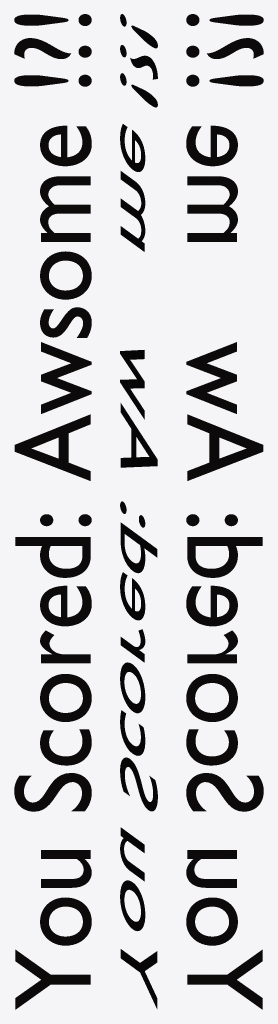
The model's file is point5.dae.
The picture shows the model from 3 angles, left to right: view 1: azimuth 90°, elevation 25°; view 2: azimuth 210°, elevation 25°; view 3: azimuth 270°, elevation 25°; orthographic projection. The views are drawn at different scales.
Parts seen in each view (by area): view 1: Text; view 2: Text; view 3: Text.
Part boxes in pixels (x1=…): Text: x1=14, y1=14, x2=91, y2=1009; Text: x1=120, y1=14, x2=157, y2=1008; Text: x1=186, y1=14, x2=263, y2=1009.
Bounding box in the file's own units: 4.33e-07 × 0.7 × 9.92.
Materials: 1 (1 with a texture image).
